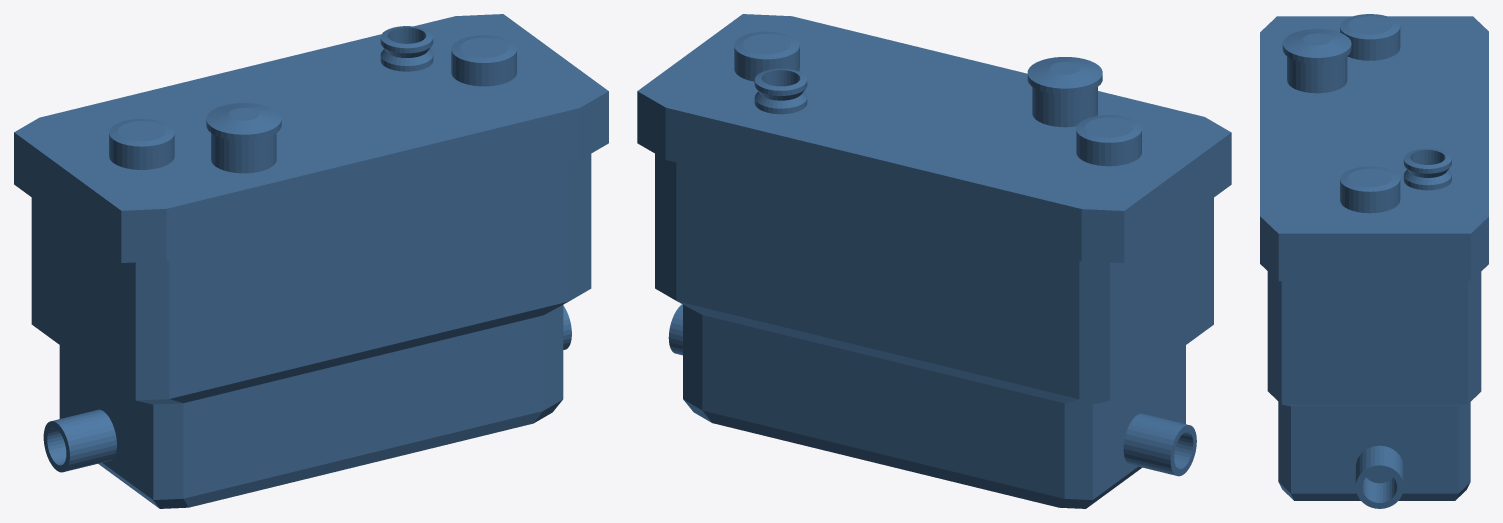
File: sanivite.glb
3 renders of one model, left to right at view 1: azimuth 30°, elevation 25°; view 2: azimuth 150°, elevation 25°; view 3: azimuth 270°, elevation 25°, orthographic. The views are drawn at different scales.
Visible parts, largest first — view 1: Product4; view 2: Product4; view 3: Product4.
Boxes of the visible parts, box(x1,y1,x2,y2) form: Product4: box(14, 14, 608, 508); Product4: box(637, 14, 1231, 508); Product4: box(1260, 14, 1488, 508).
Size of the model in its own units: 2.2 by 1.51 by 0.9509.
